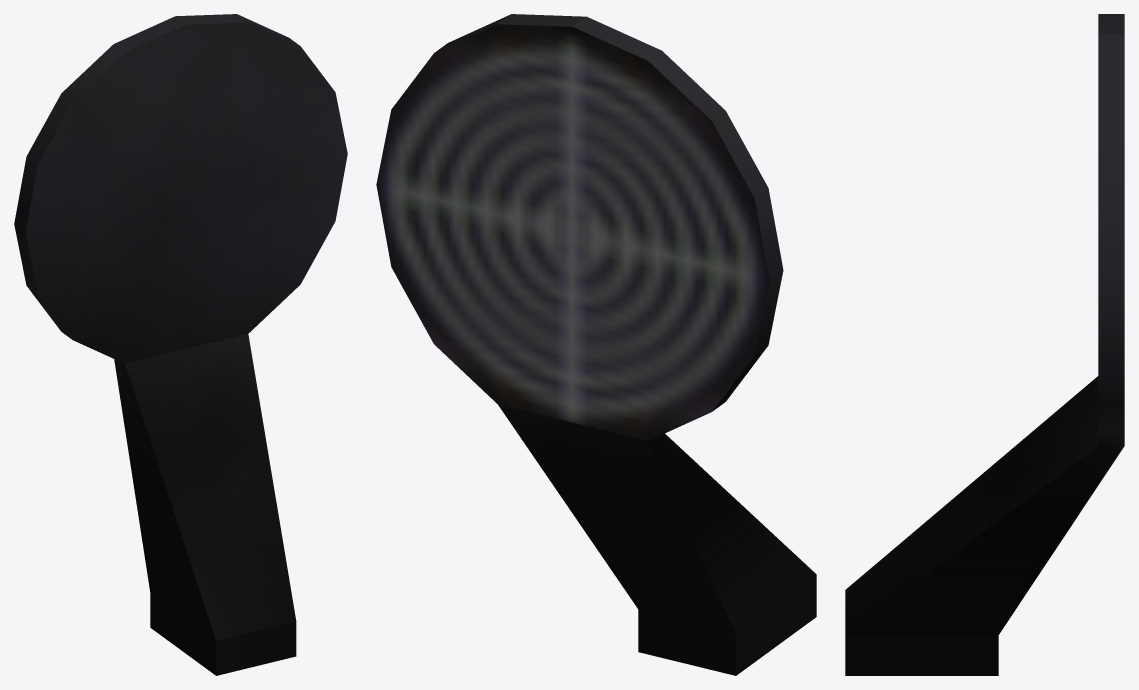
The model's file is sam_cover.obj.
3 views of the same model, side by side, from view 1: azimuth 30°, elevation 25°; view 2: azimuth 150°, elevation 25°; view 3: azimuth 270°, elevation 25° (orthographic). The views are drawn at different scales.
Visible parts, largest first — view 1: SAM_cover_1_cover_03_Cylinder.000; view 2: SAM_cover_1_cover_03_Cylinder.000; view 3: SAM_cover_1_cover_03_Cylinder.000.
Part boxes in pixels (x1,y1,x2,y2): SAM_cover_1_cover_03_Cylinder.000: (14,14,347,675); SAM_cover_1_cover_03_Cylinder.000: (376,14,816,675); SAM_cover_1_cover_03_Cylinder.000: (845,14,1124,675).
Size of the model in its own units: 0.0676 by 0.1108 by 0.0437.
